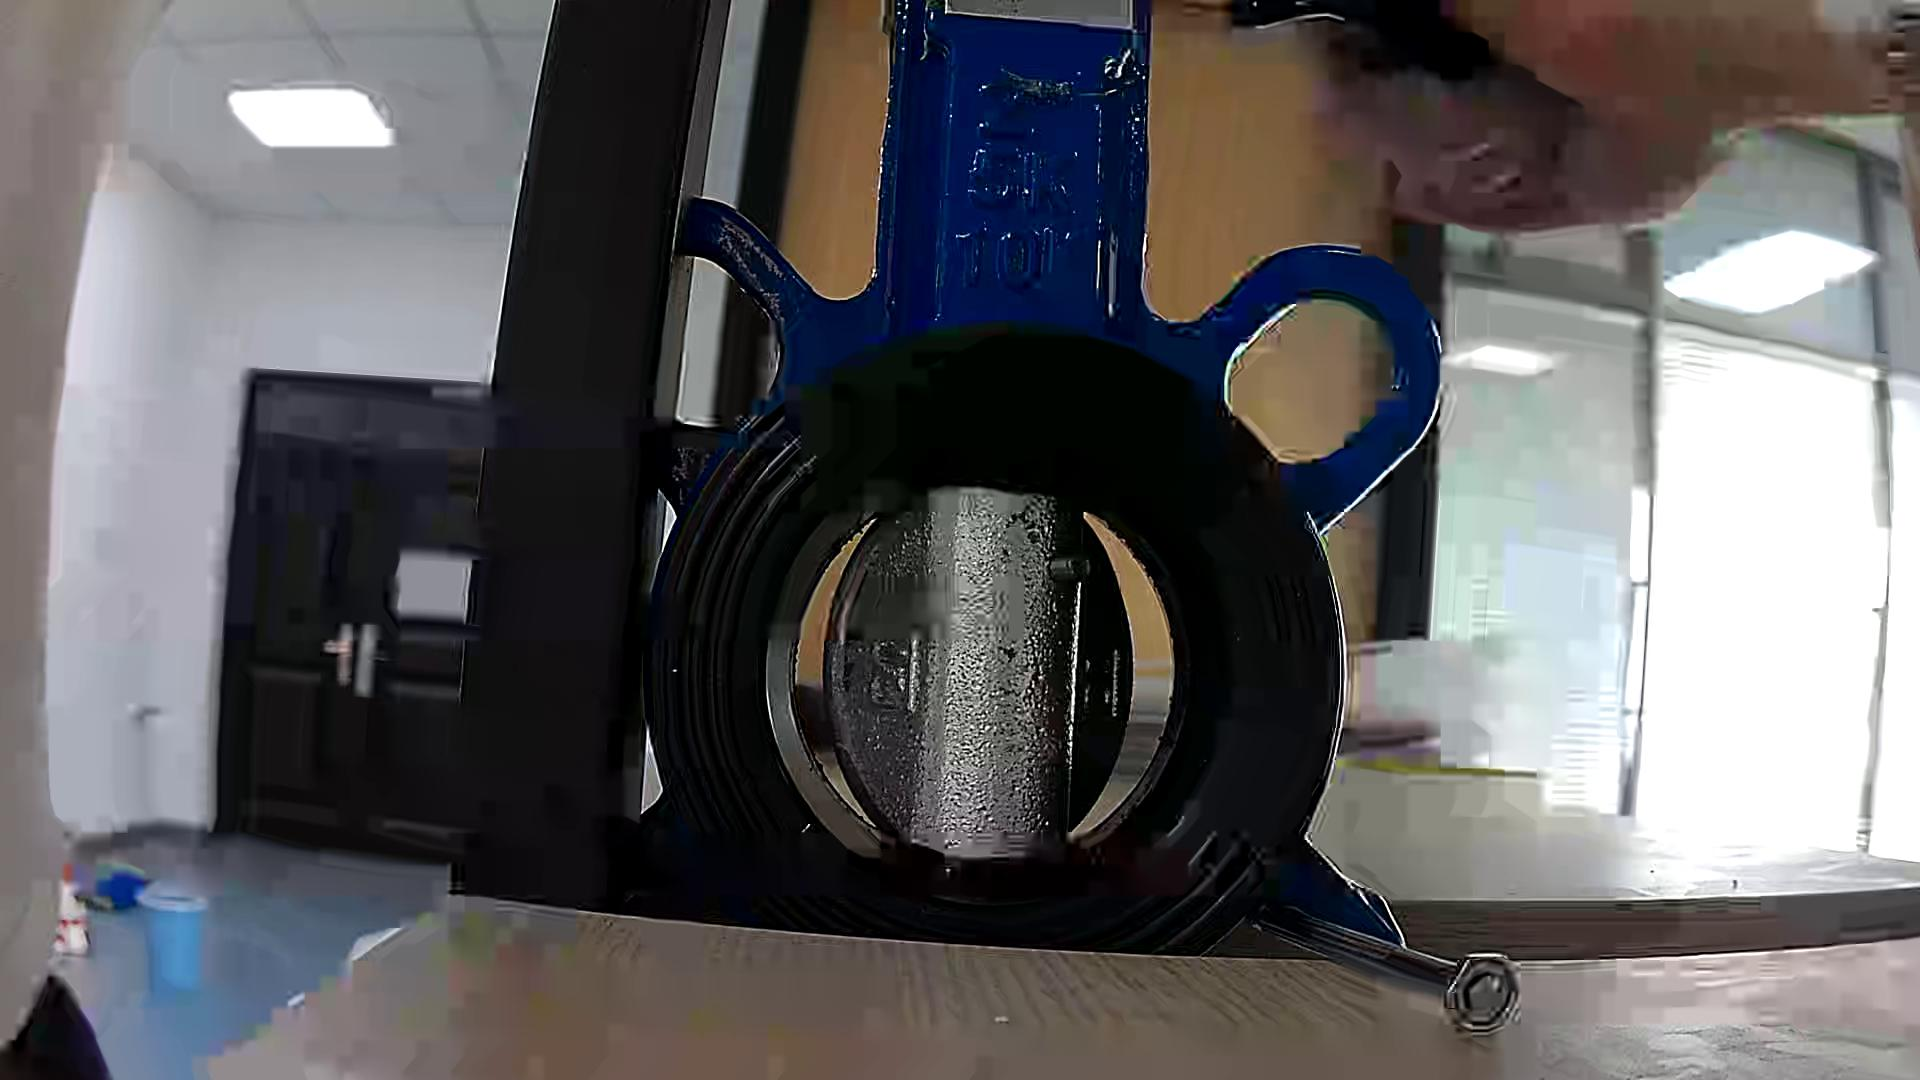valve: (824, 487, 1133, 855)
